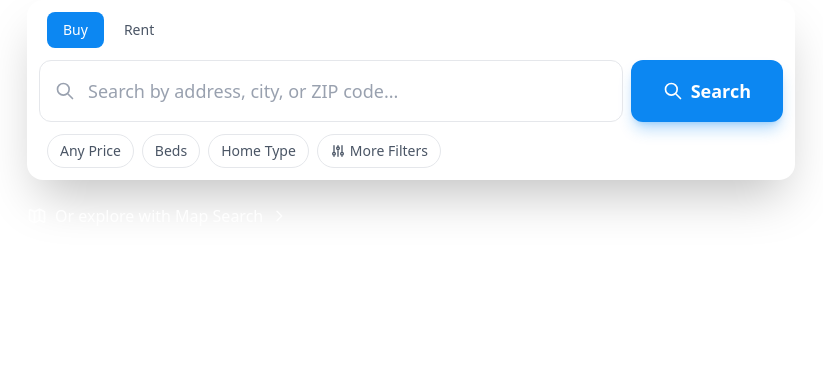
Scenario: HeroSearch › autocomplete › displays autocomplete results
Type "Sarasota" into the field at (331, 91), box left=39, top=60, right=623, bottom=122
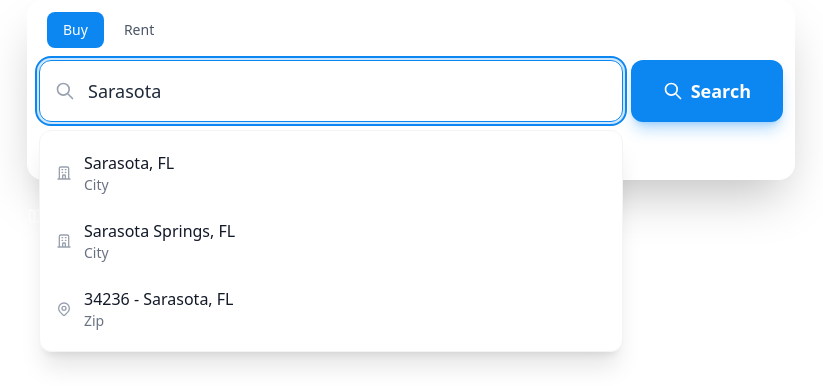
Result: the text "Sarasota, FL" is shown at left=84, top=152, right=174, bottom=174
Result: the text "Sarasota Springs, FL" is shown at left=84, top=220, right=235, bottom=242
